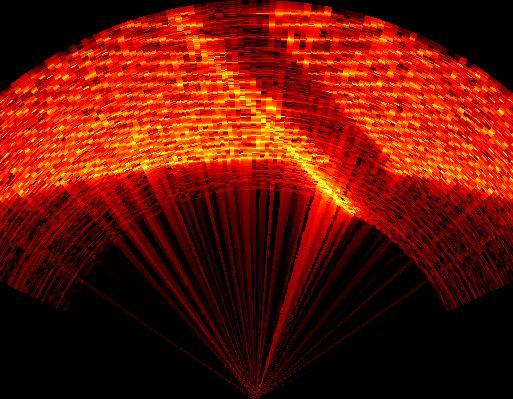pipe: (164, 4, 398, 215)
